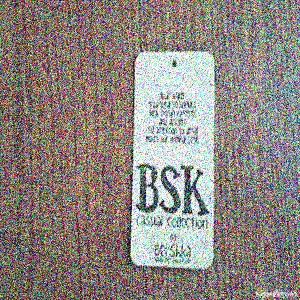bershka: (116, 58, 270, 300), (139, 81, 277, 242)
